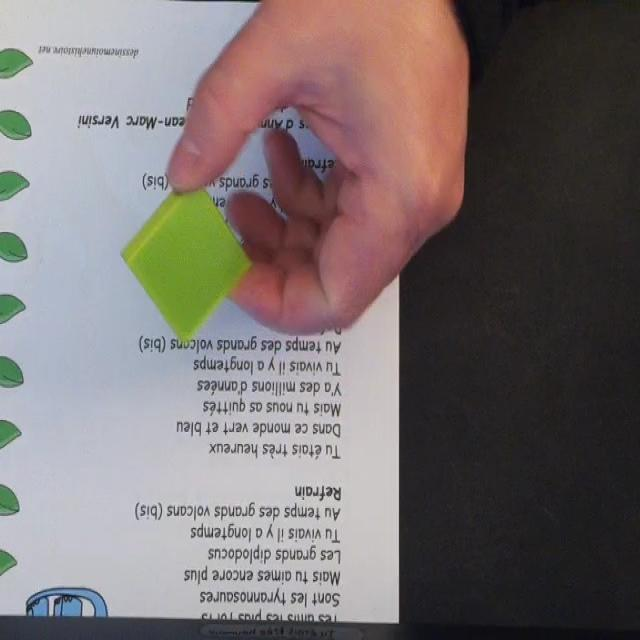square: (119, 180, 252, 343)
